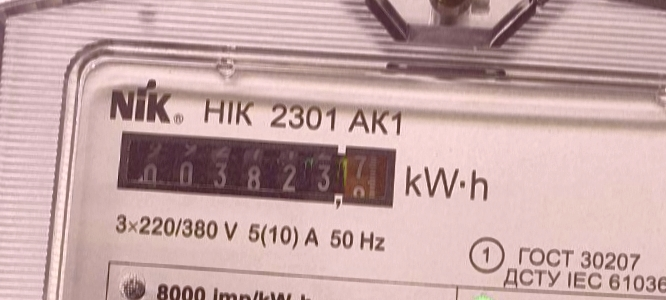0: (170, 157, 192, 185), (136, 159, 155, 183)
2: (275, 161, 296, 194)
3: (310, 161, 330, 192), (206, 158, 226, 188)
7: (348, 153, 365, 182)
8: (240, 162, 258, 191)
9: (140, 139, 159, 158)
screen: (106, 126, 397, 212)
